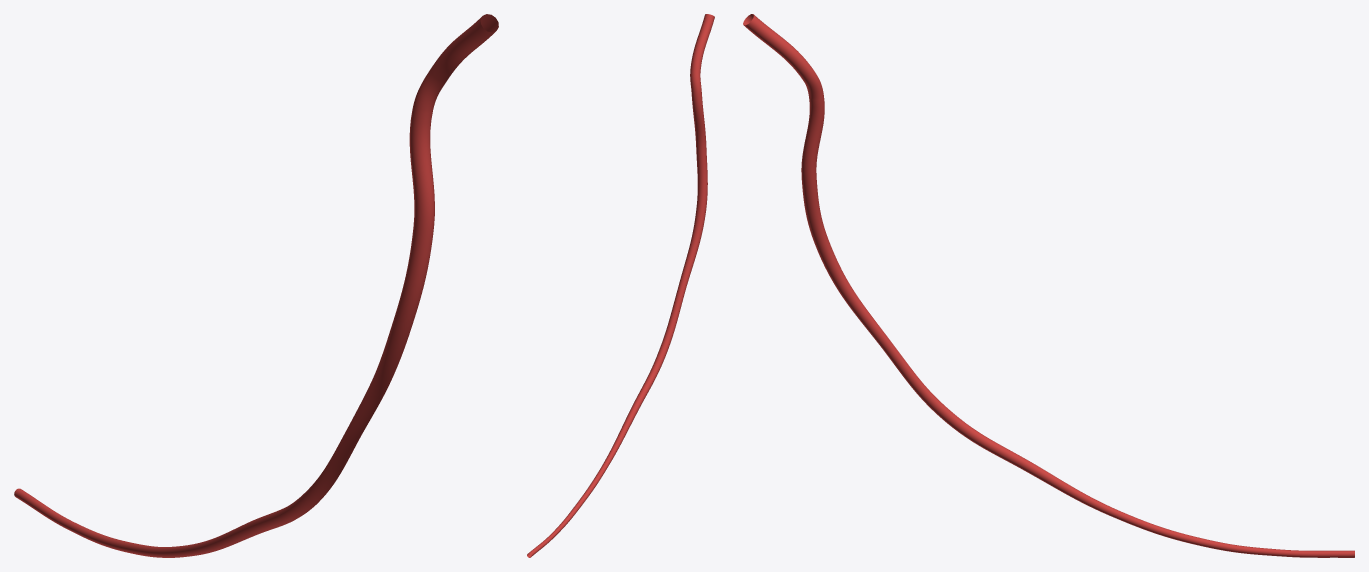
3 renders of one model, left to right at view 1: azimuth 30°, elevation 25°; view 2: azimuth 150°, elevation 25°; view 3: azimuth 270°, elevation 25°, orthographic. The views are drawn at different scales.
Parts seen in each view (by area): view 1: 左侧阴茎深动脉; view 2: 左侧阴茎深动脉; view 3: 左侧阴茎深动脉.
Boxes of the visible parts, bbox=[...] form: 左侧阴茎深动脉: bbox=[14, 14, 498, 557]; 左侧阴茎深动脉: bbox=[527, 14, 714, 557]; 左侧阴茎深动脉: bbox=[743, 14, 1354, 557].
Bounding box in the file's own units: 0.0074 × 0.0802 × 0.0791.
